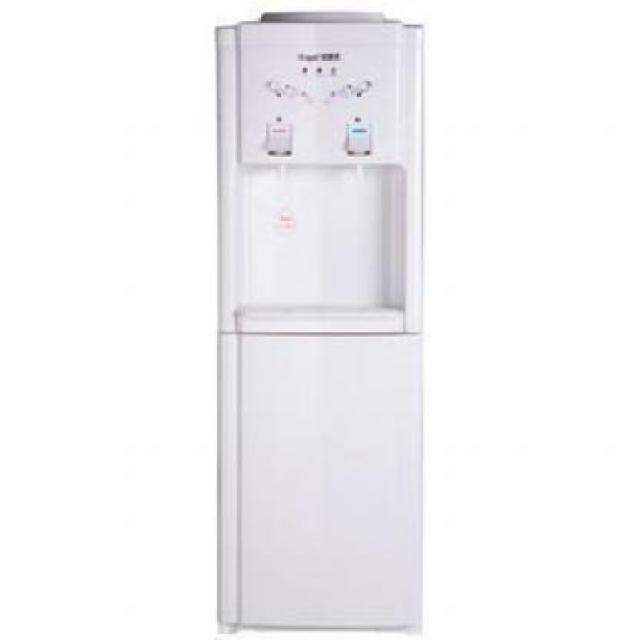cooler: (212, 9, 430, 640)
